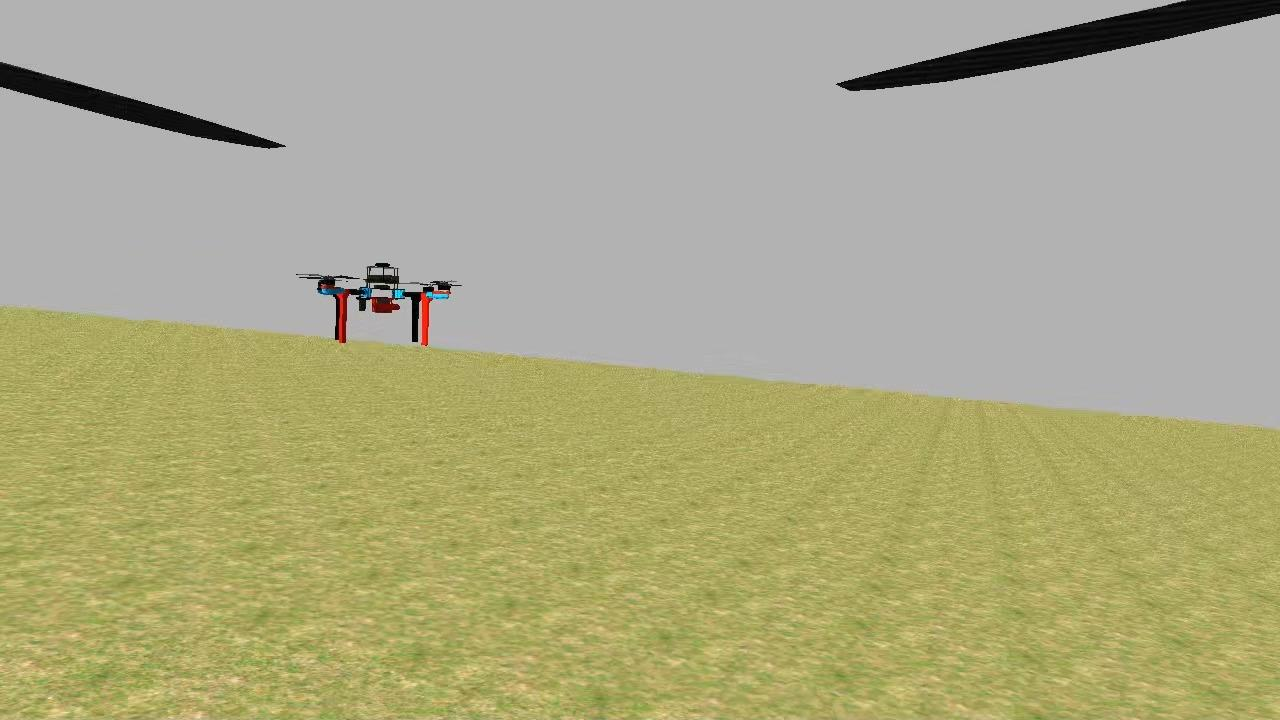UAV: (307, 256, 463, 351)
